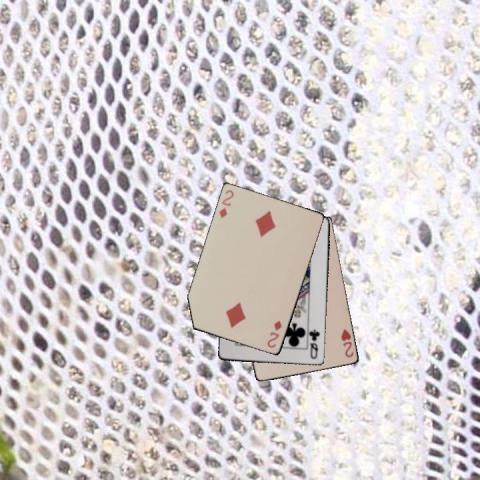2d: (264, 318, 283, 350), (217, 187, 235, 220)
2h: (338, 326, 355, 359)
Qc: (307, 326, 321, 360)
